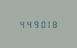eight: (53, 20, 59, 28)
four: (17, 20, 23, 28), (24, 20, 30, 28)
nine: (32, 20, 38, 28)
one: (46, 20, 52, 28)
zero: (39, 20, 45, 28)
